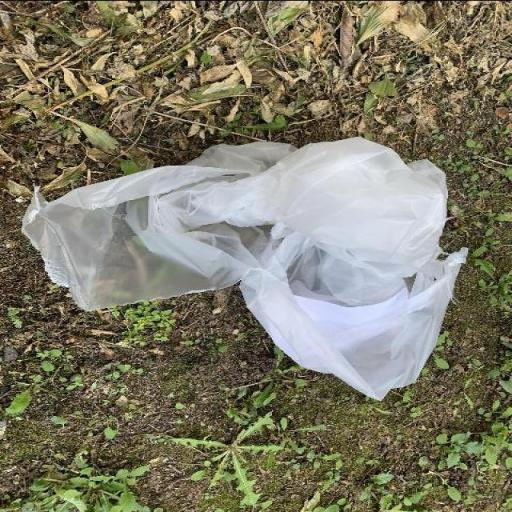polythene: (22, 138, 466, 399)
